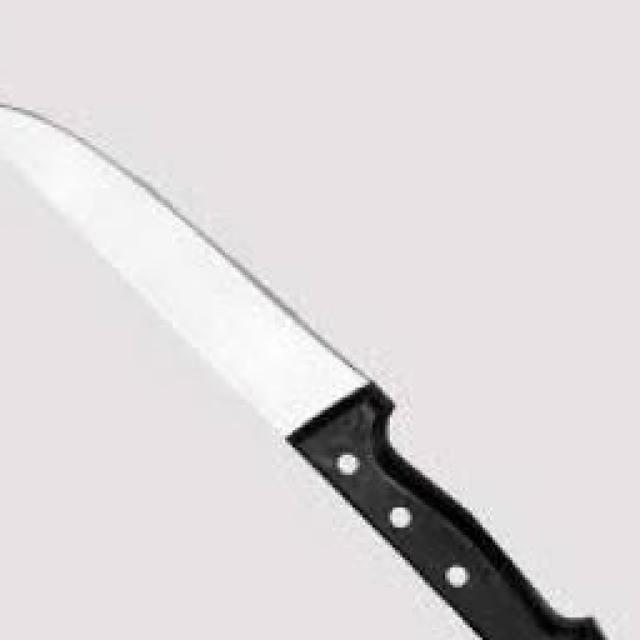knife: (0, 98, 630, 640)
